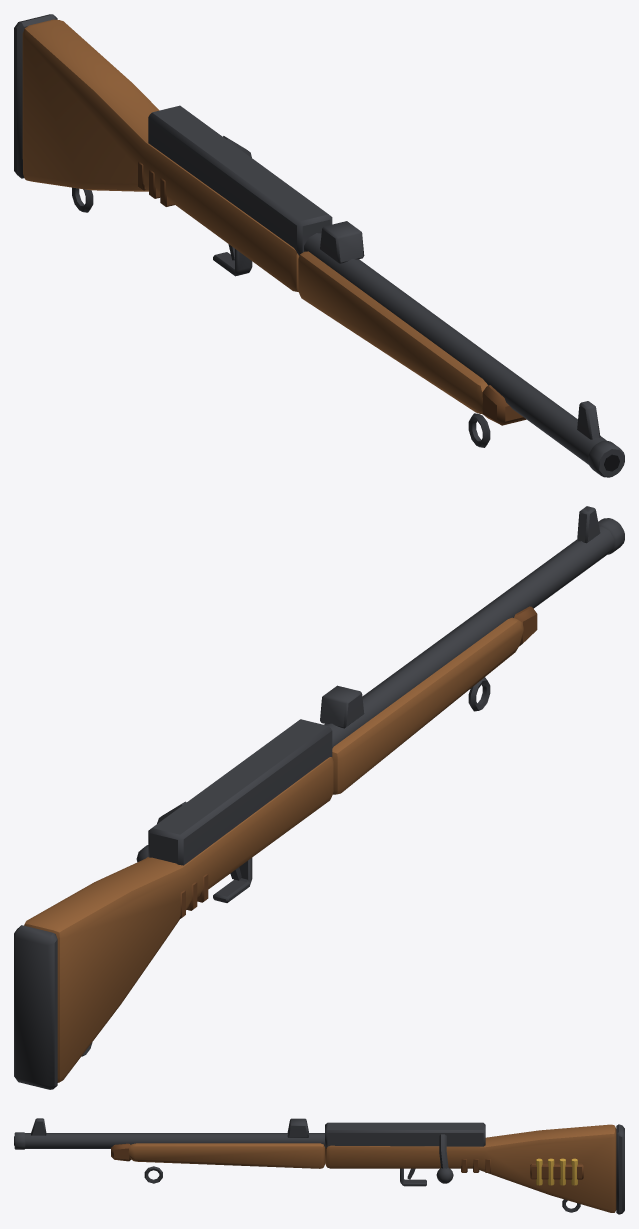
The model's file is hunting_rifle.glb.
3 renders of one model, top to bottom at view 1: azimuth 30°, elevation 25°; view 2: azimuth 150°, elevation 25°; view 3: azimuth 270°, elevation 25°, orthographic. The views are drawn at different scales.
Visible parts, largest first — view 1: hunting_body, hunting_metal; view 2: hunting_body, hunting_metal; view 3: hunting_body, hunting_metal, hunting_ammo.
Boxes of the visible parts, x1,y1,x2,y2 form: hunting_body: (22, 19, 526, 425); hunting_metal: (14, 14, 624, 477); hunting_body: (24, 606, 537, 1082); hunting_metal: (14, 506, 624, 1089); hunting_body: (111, 1124, 616, 1212); hunting_metal: (14, 1118, 624, 1214); hunting_ammo: (530, 1158, 583, 1185).
Size of the model in its own units: 0.0972 by 0.193 by 1.14.
